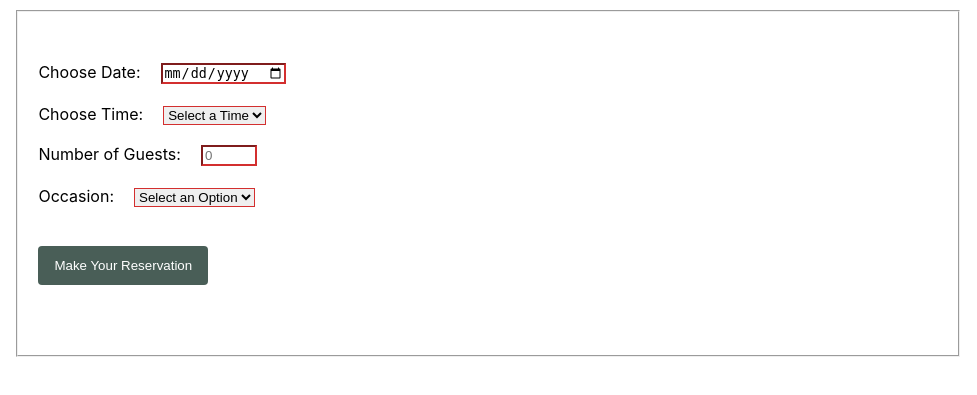
Test: BookingForm › shows validation errors on blur and hides on correction
Note: Trigger validation by focusing and blurring without input
Click the number field labelled "Number of Guests:" at (229, 156), box [201, 145, 257, 166]
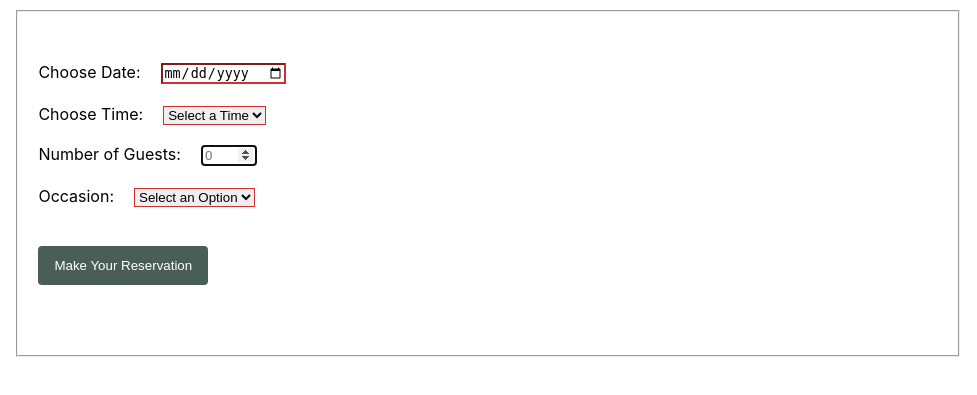
Press Tab
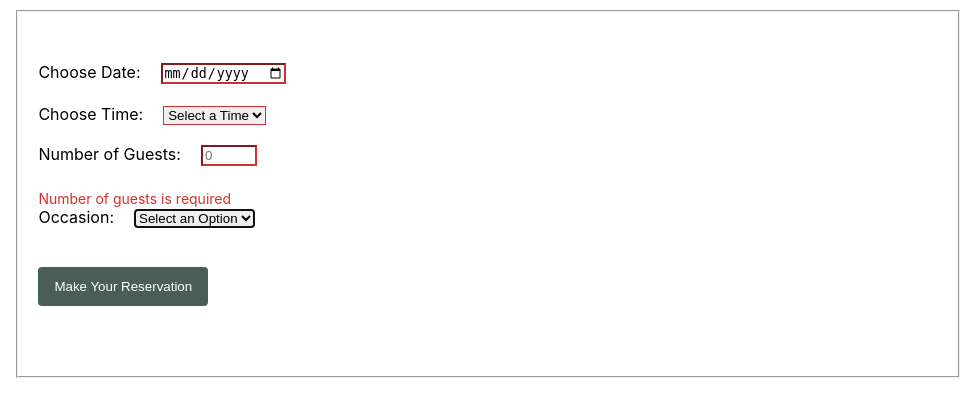
Result: the text "Number of guests is required" is shown at [38, 190, 231, 207]
Note: Correct the error
Type "2" into the number field labelled "Number of Guests:" at (229, 156), box [201, 145, 257, 166]
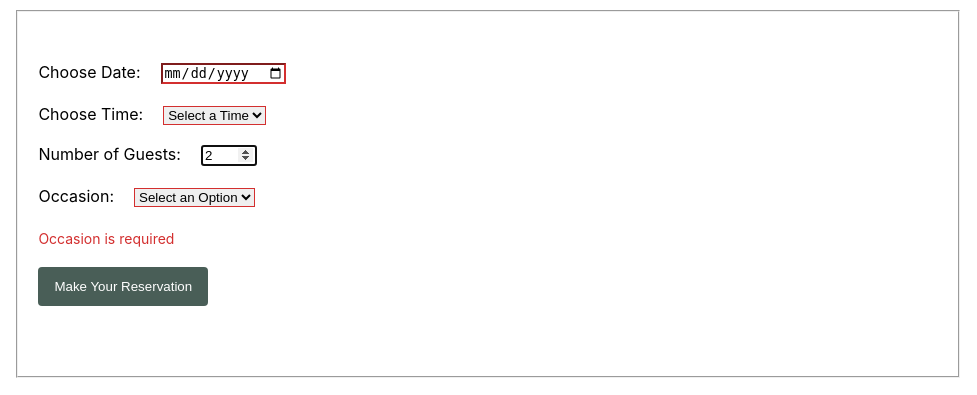
Result: the text "Number of guests is required" is gone
